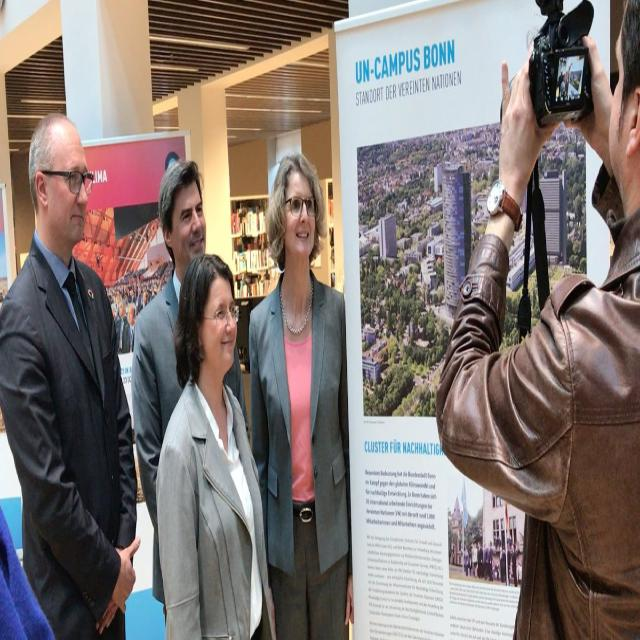body: (438, 0, 639, 639), (0, 108, 142, 639), (130, 152, 252, 630), (248, 151, 354, 640), (154, 250, 277, 640)
